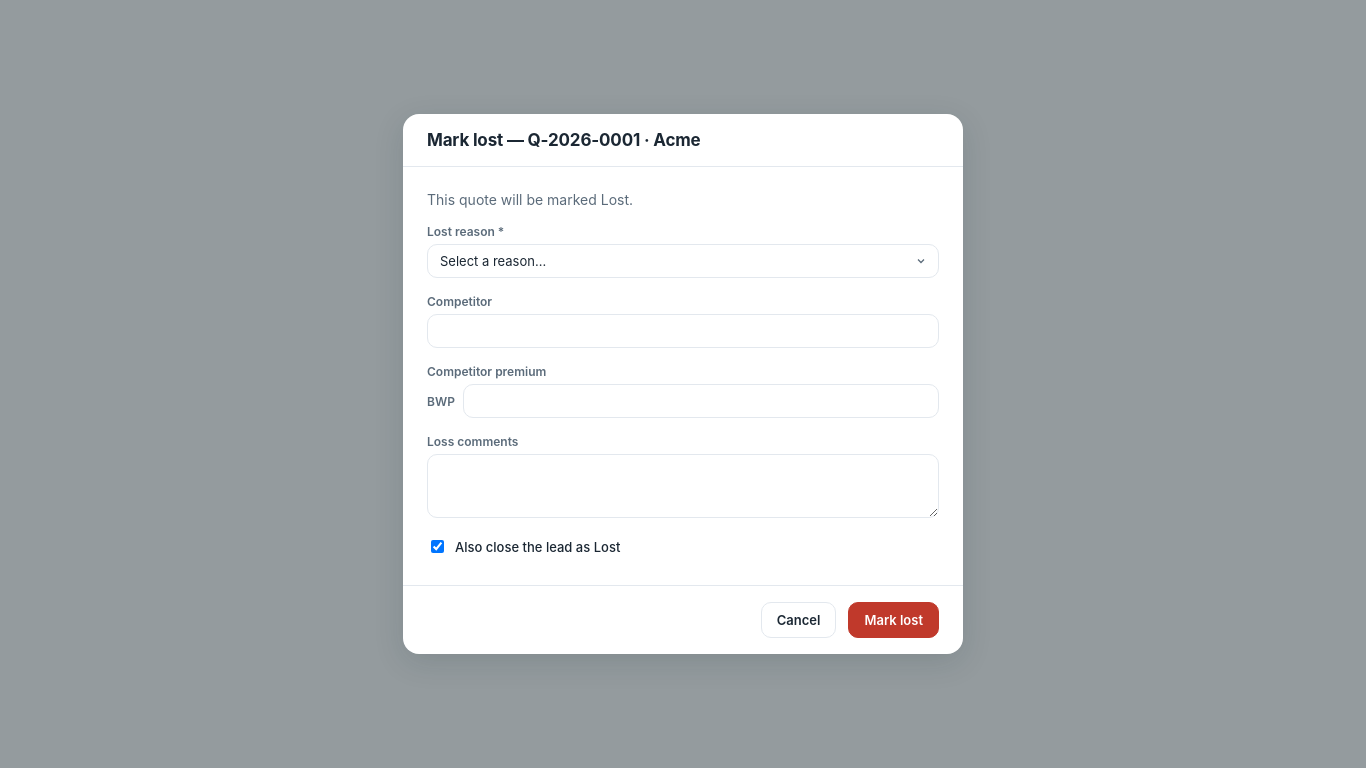
Test: MarkQuoteLostDialog › click_WhenReasonOtherSelectedWithoutComments_ShouldShowInlineError
The image size is (1366, 768).
Step 1. Select "Other" in the dropdown with test id "quote-lost-reason-select" → (683, 261), box [427,244,939,278]
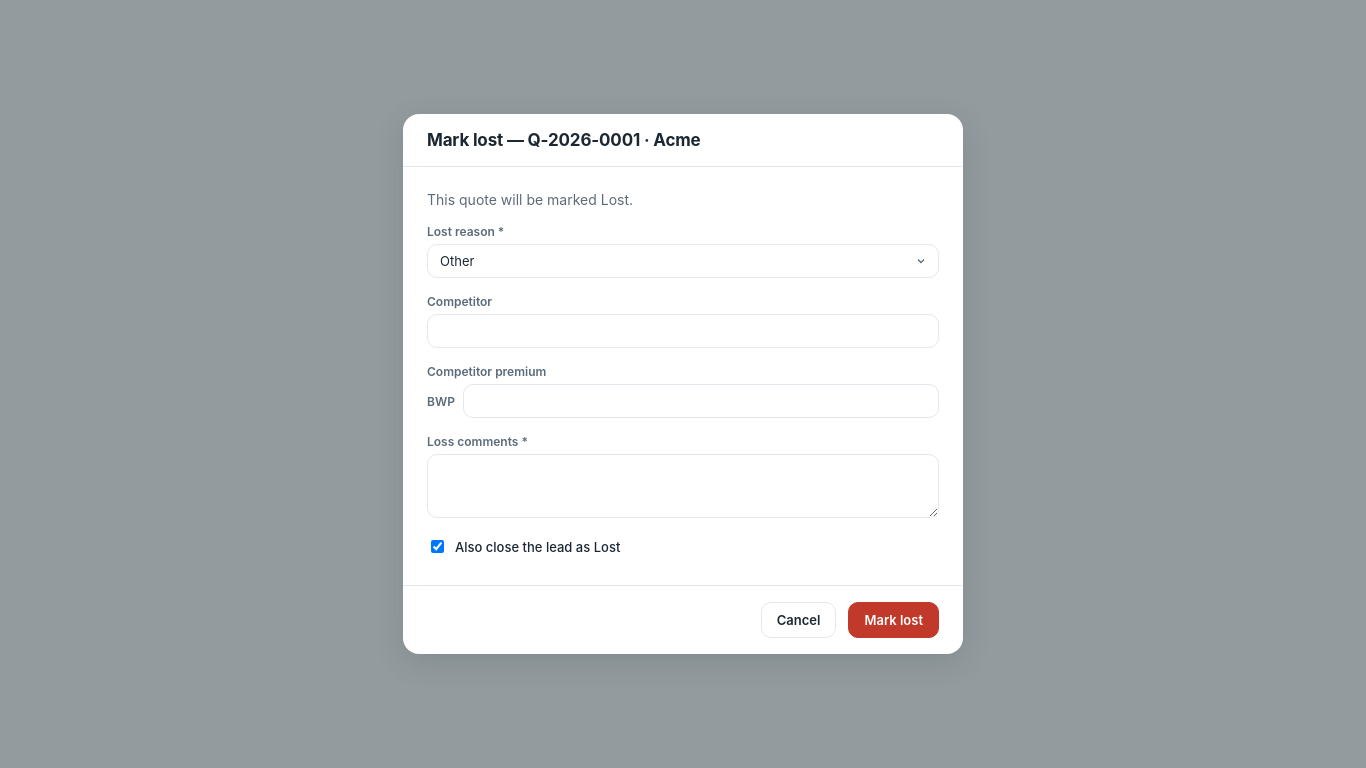
Step 2. Click the button with test id "dialog-danger-button" → (894, 620), box [848,602,939,638]
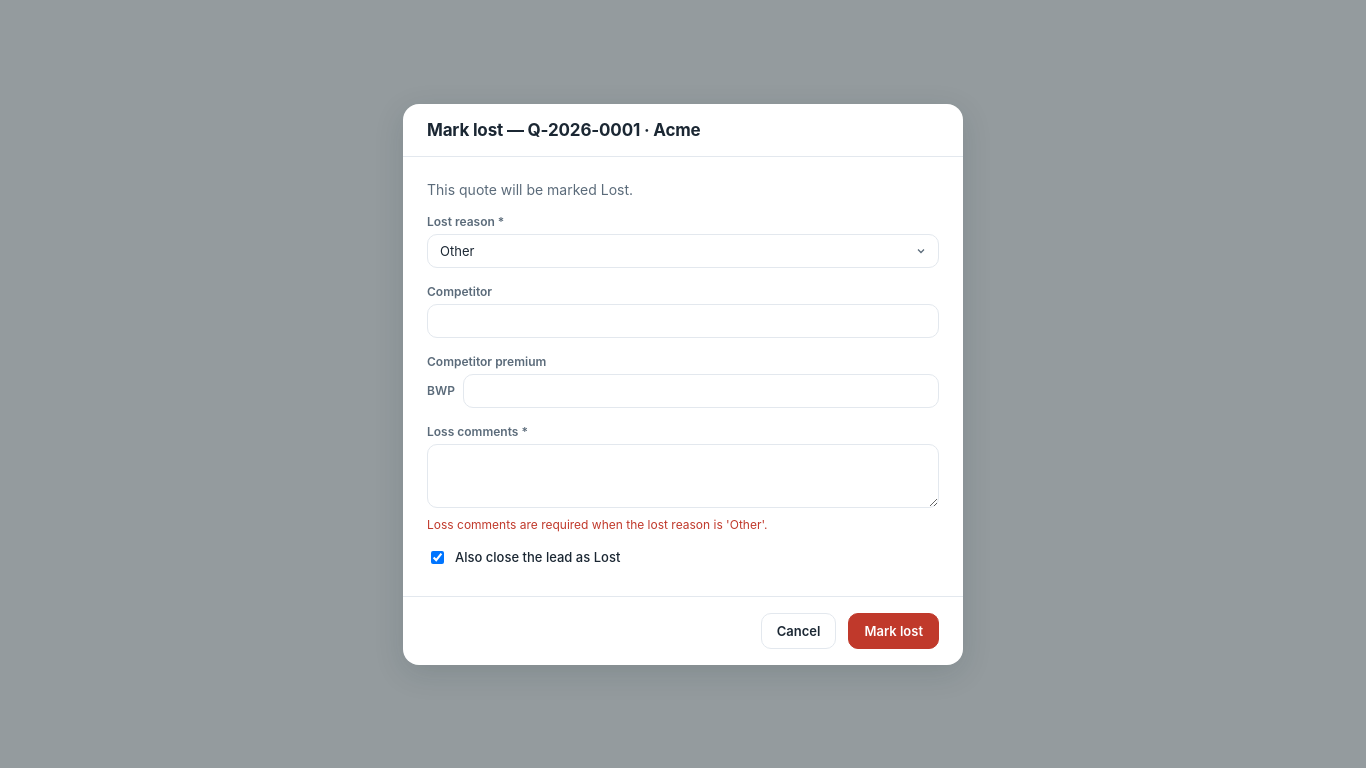
expect the message with test id "field-error-loss-comments" shows "required when the lost reason is 'Other'": met, box [427,516,768,532]
